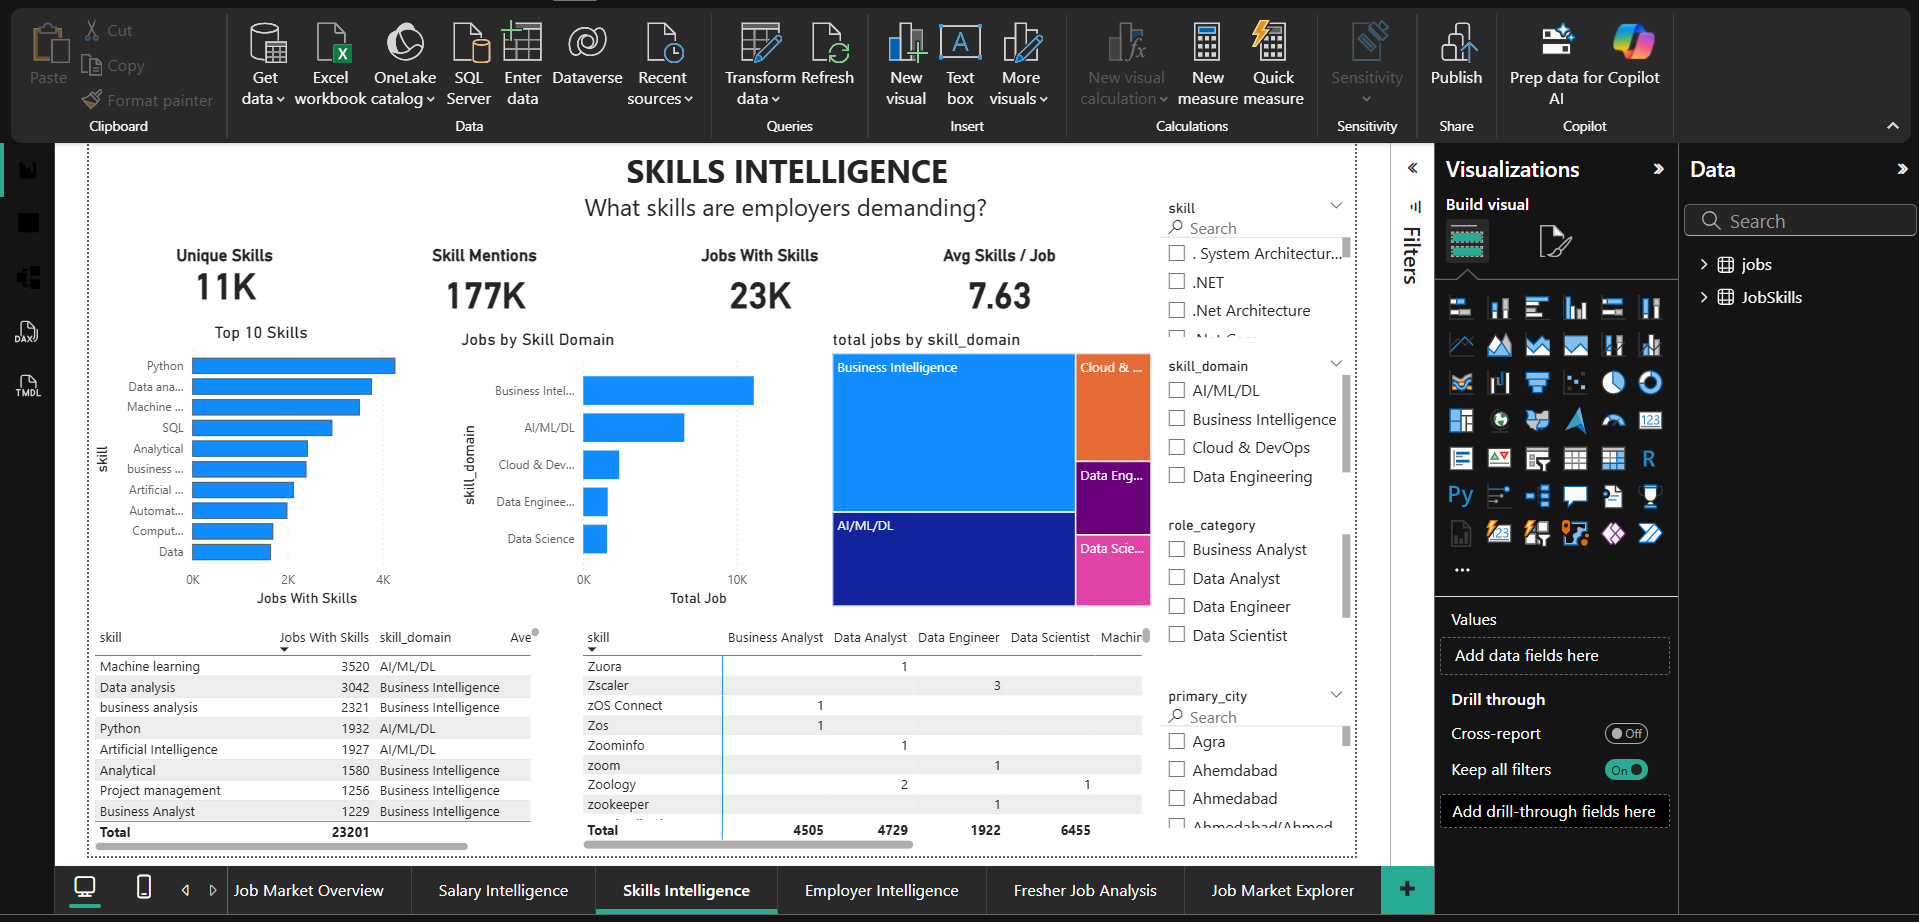

Layout of this report page (visuals, bound fields, positions):
{"tool":"powerbi","page":{"name":"Skills Intelligence","canvas":[1280,720],"ordinal":2},"visuals":[{"type":"clusteredBarChart","title":"Top 10 Skills","fields":{"Y":["JobSkills.Jobs With Skills"],"Category":["JobSkills.skill"]},"box":[0,182.2,348.2,291.2],"z":0},{"type":"clusteredBarChart","title":"Jobs by Skill Domain","fields":{"Category":["jobs.skill_domain"],"Y":["jobs.Total Job"]},"box":[371,188.7,375.8,284.7],"z":1000},{"type":"textbox","box":[442.5,0,527.1,104.1],"z":2000},{"type":"card","title":"Unique Skills","fields":{"Values":["JobSkills.Total Skills"]},"box":[28.7,103.7,217,61.4],"z":3000},{"type":"card","title":"Skill Mentions","fields":{"Values":["JobSkills.Total Skill Records"]},"box":[304.4,103.7,191.1,79.2],"z":4000},{"type":"card","title":"Jobs With Skills","fields":{"Values":["JobSkills.Jobs With Skills"]},"box":[574.7,103.7,207.5,79.2],"z":5000},{"type":"card","title":"Avg Skills / Job","fields":{"Values":["JobSkills.Avg Skills Per Job"]},"box":[809.5,103.7,222.5,79.2],"z":6000},{"type":"slicer","fields":{"Values":["JobSkills.skill"]},"box":[1078.7,52.1,201.7,149.7],"z":7000},{"type":"slicer","fields":{"Values":["jobs.skill_domain"]},"box":[1078.7,211.5,201.7,148.1],"z":8000},{"type":"slicer","fields":{"Values":["jobs.role_category"]},"box":[1078.7,372.6,201.7,149.7],"z":9000},{"type":"slicer","fields":{"Values":["jobs.primary_city"]},"box":[1078.7,546.7,201.7,151.3],"z":10000},{"type":"tableEx","fields":{"Values":["JobSkills.skill","JobSkills.Jobs With Skills","jobs.skill_domain","jobs.Average Salary"]},"box":[0,484.8,460.4,235.9],"z":11000},{"type":"pivotTable","fields":{"Rows":["JobSkills.skill"],"Columns":["jobs.role_category"],"Values":["JobSkills.Jobs With Skills"]},"box":[494.6,484.8,584.1,234.3],"z":12000},{"type":"treemap","fields":{"Group":["jobs.skill_domain"],"Values":["jobs.total jobs"]},"box":[746.8,188.7,331.9,284.7],"z":13000}]}

Visuals, with their boxes on the page's 1280x720 design canvas (x1, y1, x2, y2). These are canvas units, not pixel positions in the 1919x922 screenshot, which may show the page scaled, cropped or inside an application window:
"Top 10 Skills" clusteredBarChart: l=0, t=182, r=348, b=473
"Jobs by Skill Domain" clusteredBarChart: l=371, t=189, r=747, b=473
textbox: l=442, t=0, r=970, b=104
"Unique Skills" card: l=29, t=104, r=246, b=165
"Skill Mentions" card: l=304, t=104, r=496, b=183
"Jobs With Skills" card: l=575, t=104, r=782, b=183
"Avg Skills / Job" card: l=810, t=104, r=1032, b=183
slicer - JobSkills.skill: l=1079, t=52, r=1280, b=202
slicer - jobs.skill_domain: l=1079, t=212, r=1280, b=360
slicer - jobs.role_category: l=1079, t=373, r=1280, b=522
slicer - jobs.primary_city: l=1079, t=547, r=1280, b=698
tableEx - JobSkills.skill x JobSkills.Jobs With Skills: l=0, t=485, r=460, b=721
pivotTable - JobSkills.skill x jobs.role_category: l=495, t=485, r=1079, b=719
treemap - jobs.skill_domain x jobs.total jobs: l=747, t=189, r=1079, b=473
